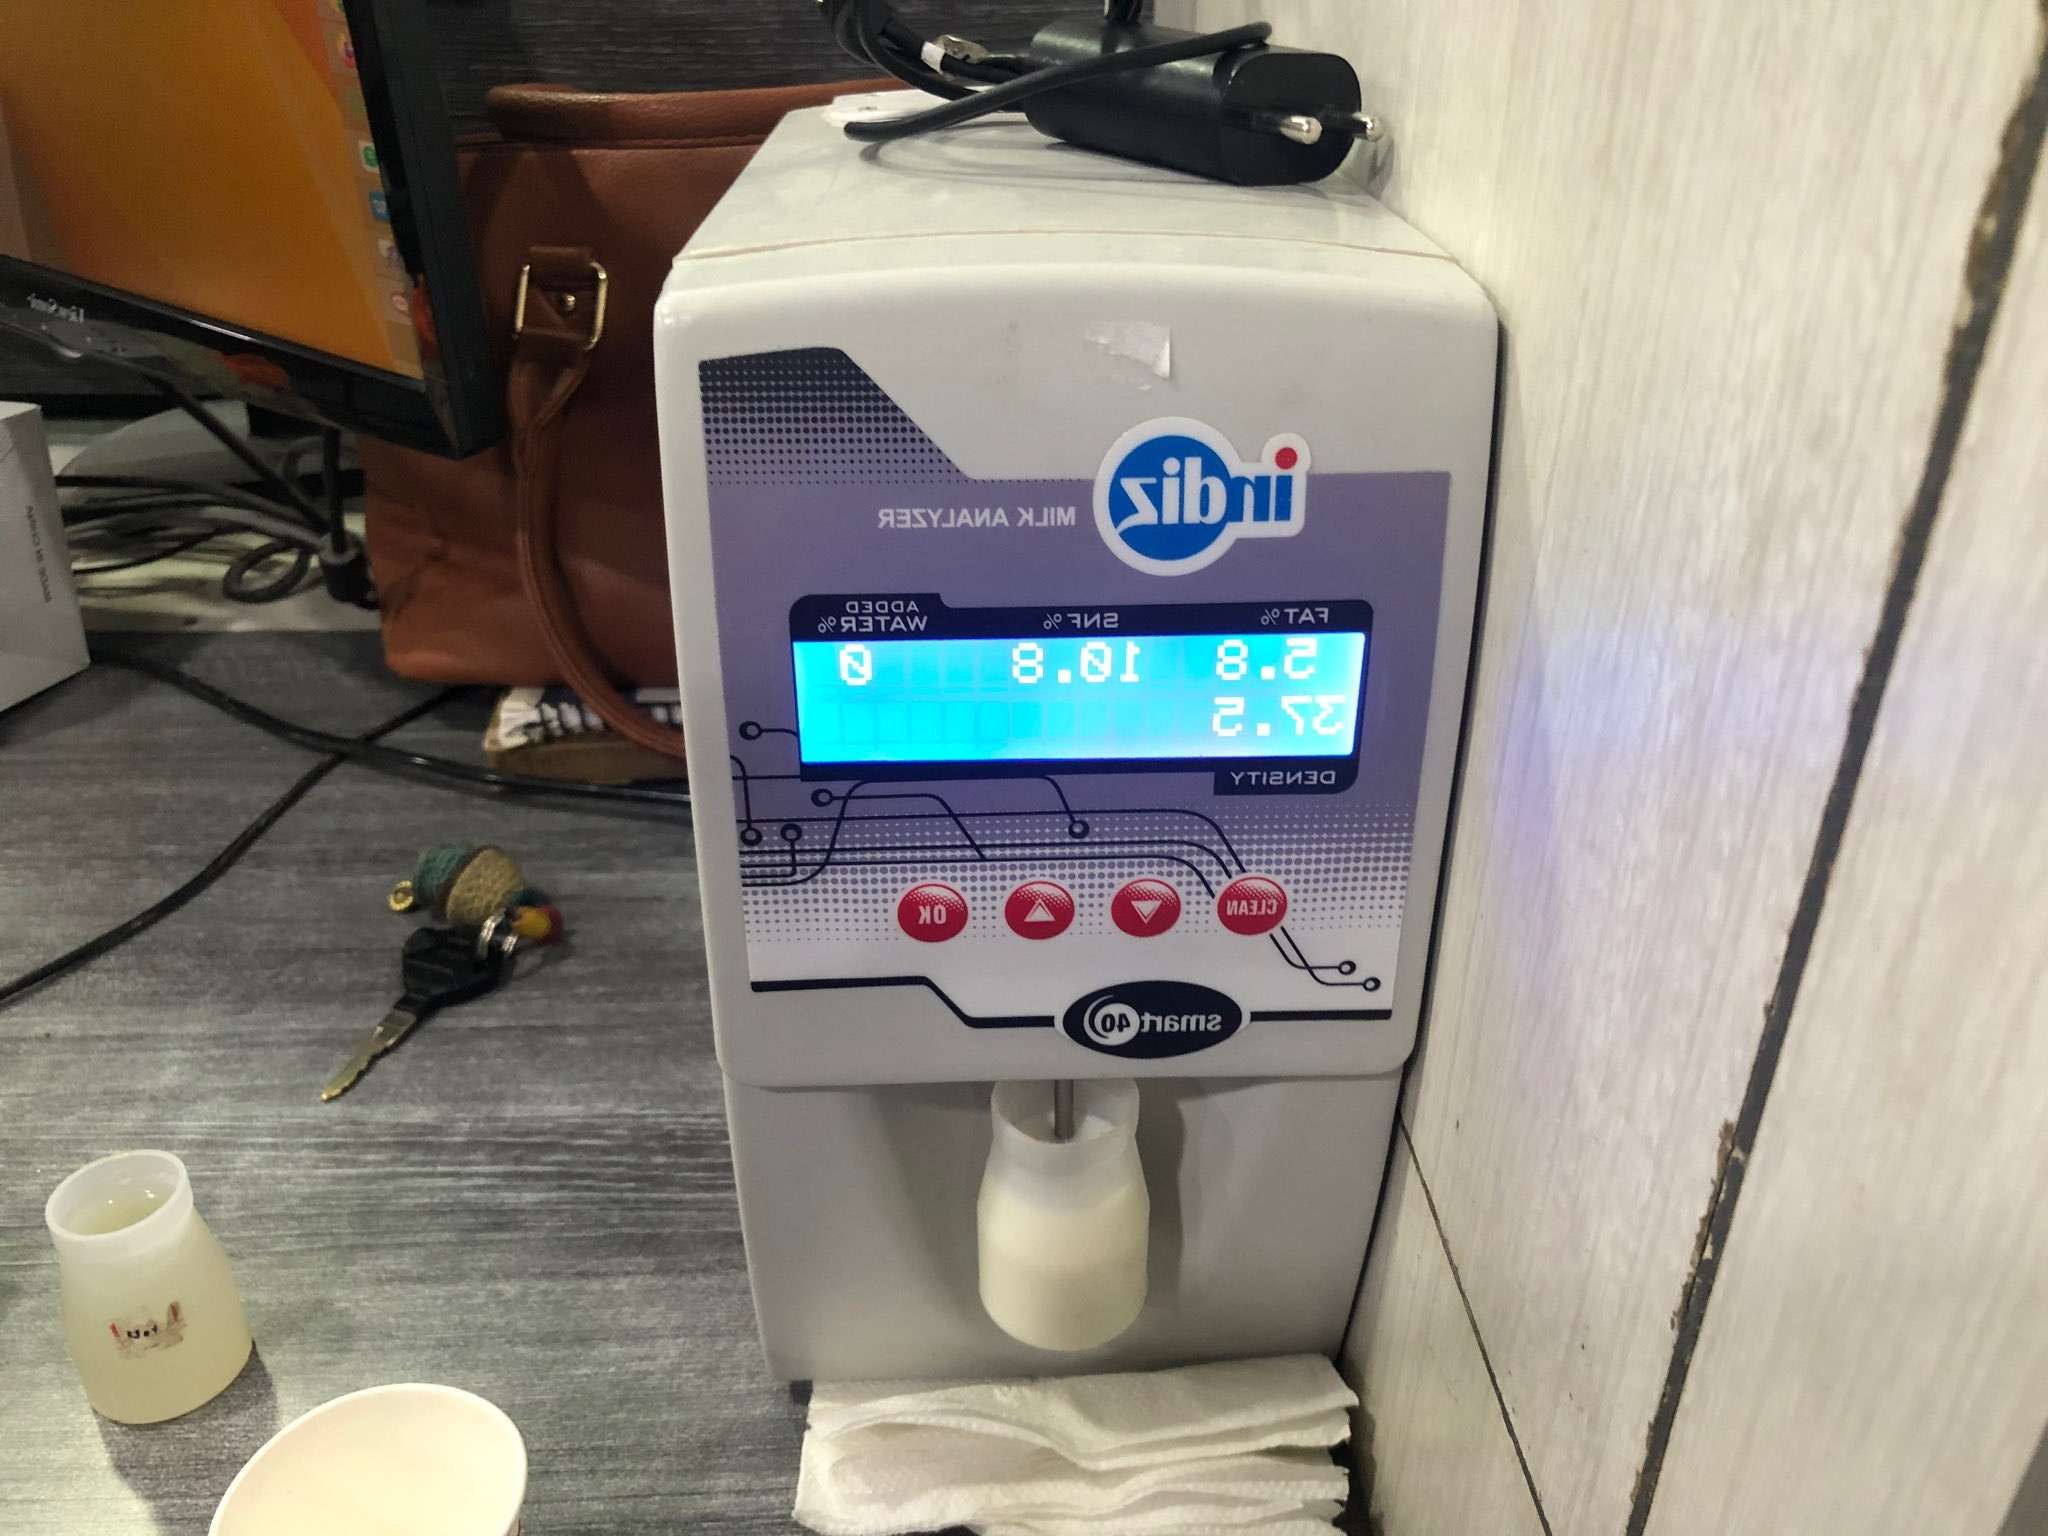lcd: (780, 624, 1380, 789)
